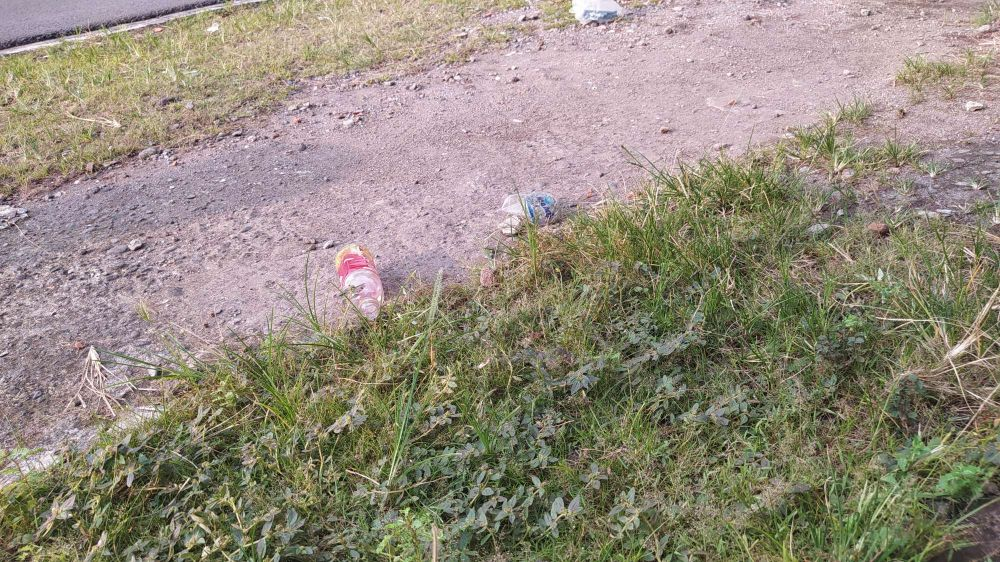botol: (322, 235, 392, 325)
